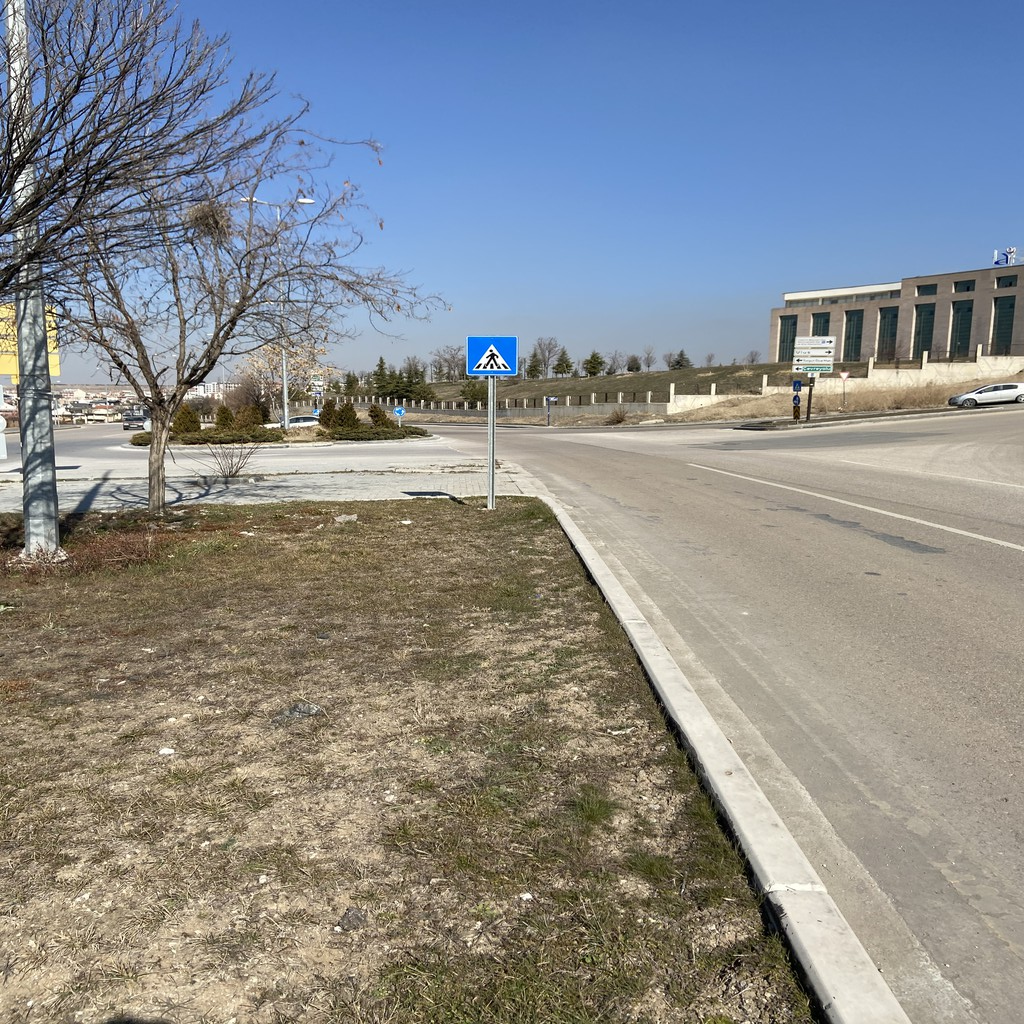Yaya Gecidi: (460, 338, 522, 377)
